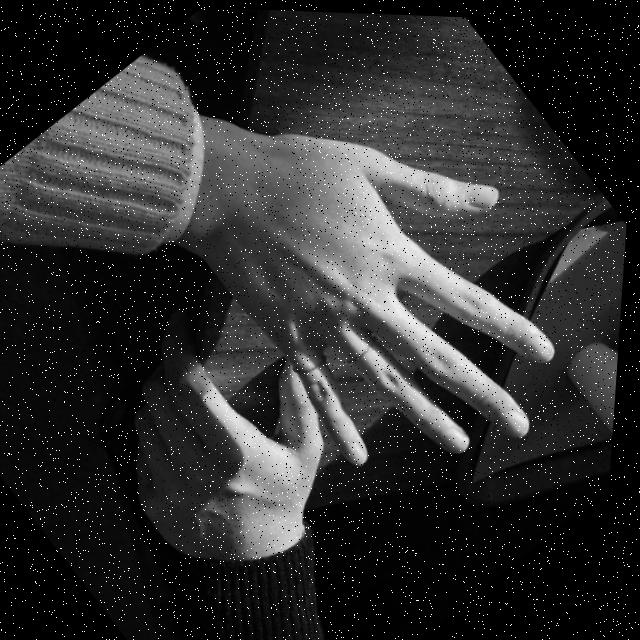hand: (172, 68, 637, 542)
